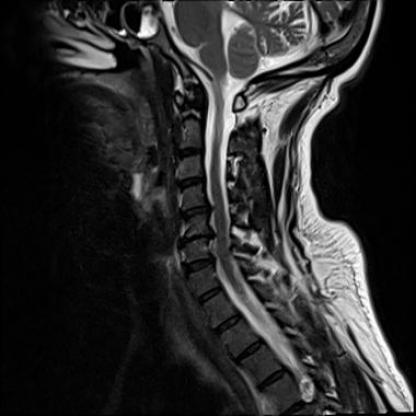Degenerative Disc Diseaserotation: (177, 232, 212, 248)
Disc Bulgerotation: (181, 256, 217, 275)
Disc Protrusionrotation: (177, 232, 212, 248), (180, 205, 212, 220)
